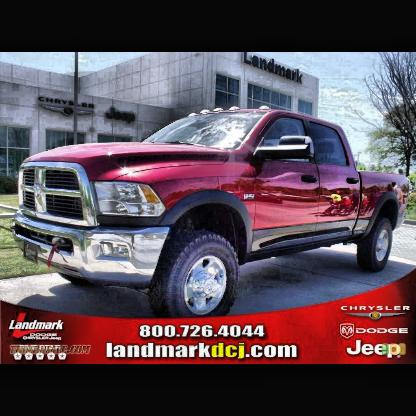Dodge Ram Pickup 3500 Crew Cab 2010: (13, 107, 413, 320)
